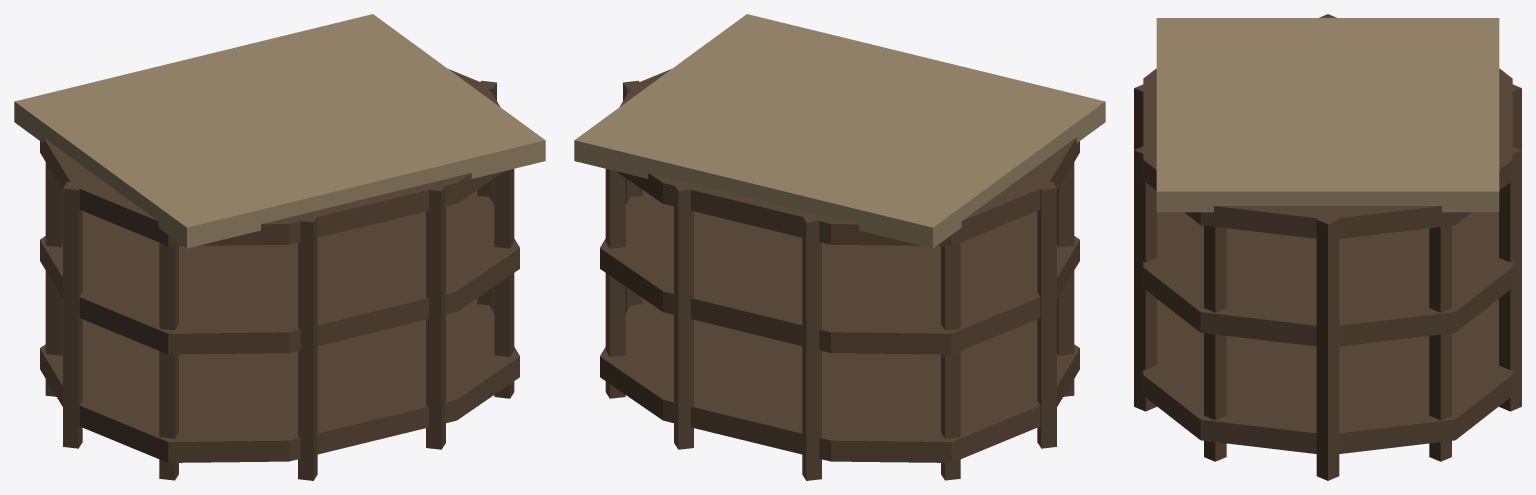
Rendered from P_CrabPot.glb.
3 views of the same model, side by side, from view 1: azimuth 30°, elevation 25°; view 2: azimuth 150°, elevation 25°; view 3: azimuth 270°, elevation 25° (orthographic).
Parts seen in each view (by area): view 1: P_CrabPot; view 2: P_CrabPot; view 3: P_CrabPot.
Part boxes in pixels (x1=…): P_CrabPot: x1=14, y1=14, x2=545, y2=480; P_CrabPot: x1=574, y1=14, x2=1105, y2=480; P_CrabPot: x1=1134, y1=14, x2=1521, y2=480.
Size of the model in its own units: 1.09 by 0.655 by 0.8489.
